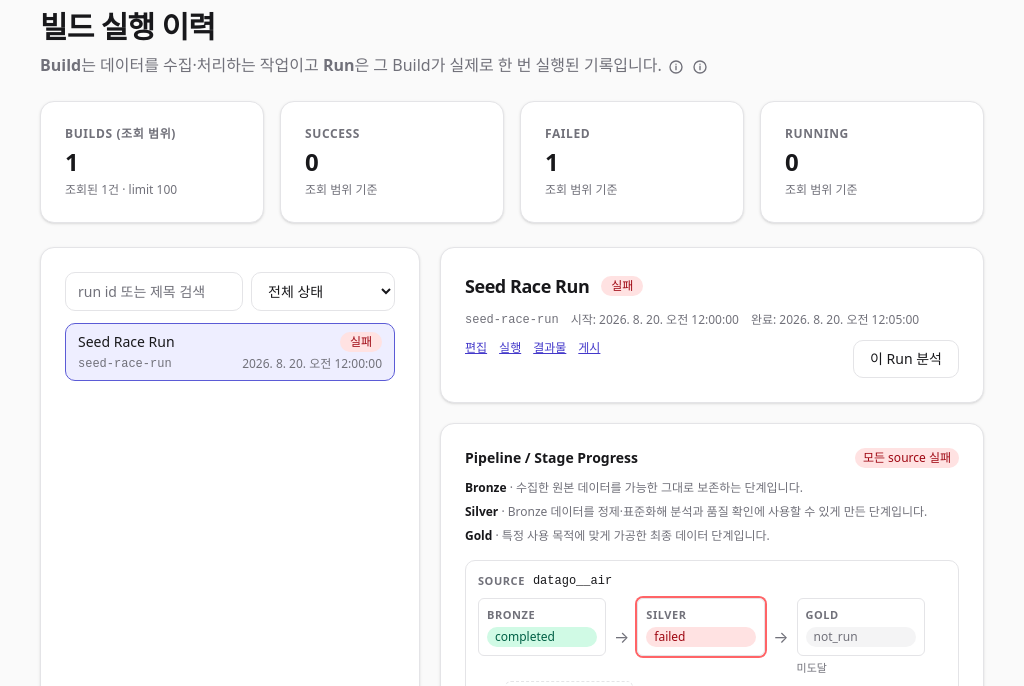
Test: C1 — Builds Kubi seed vs. context back-fill race › does not stay pending forever when the BuildSpec snapshot request errors (spec error is 'settled')
What coordinates should you click on to do the following:
click the button "이 Run 분석"
I would click on:
 (906, 359)
Its box is [853,340,959,378].
(page scrolled)
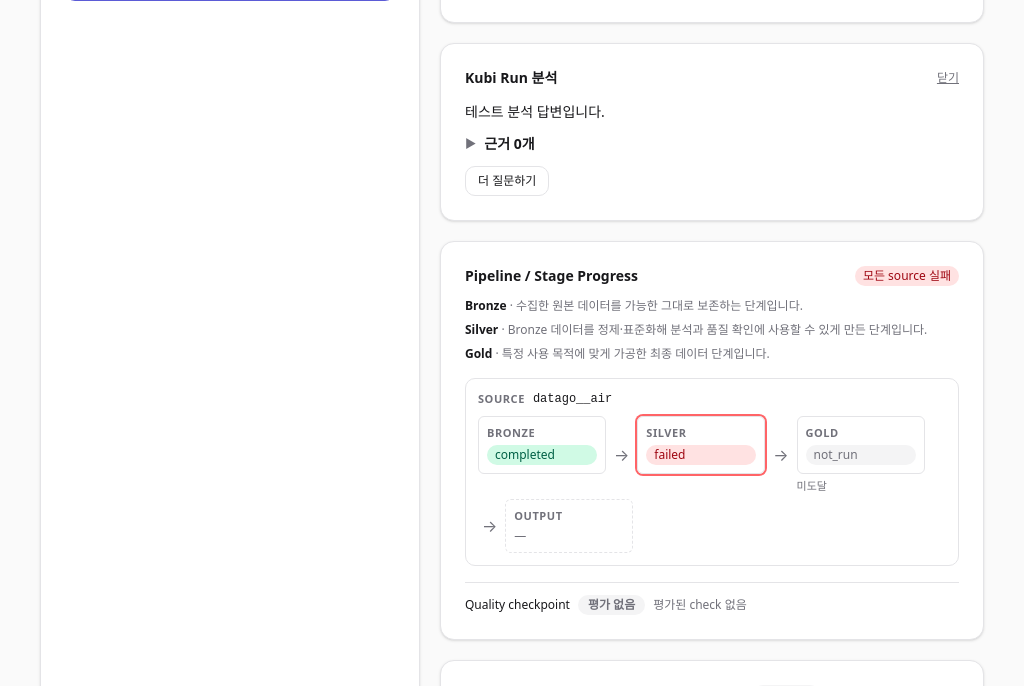
Result: the text "테스트 분석 답변입니다." is shown at [465,102,605,121]
